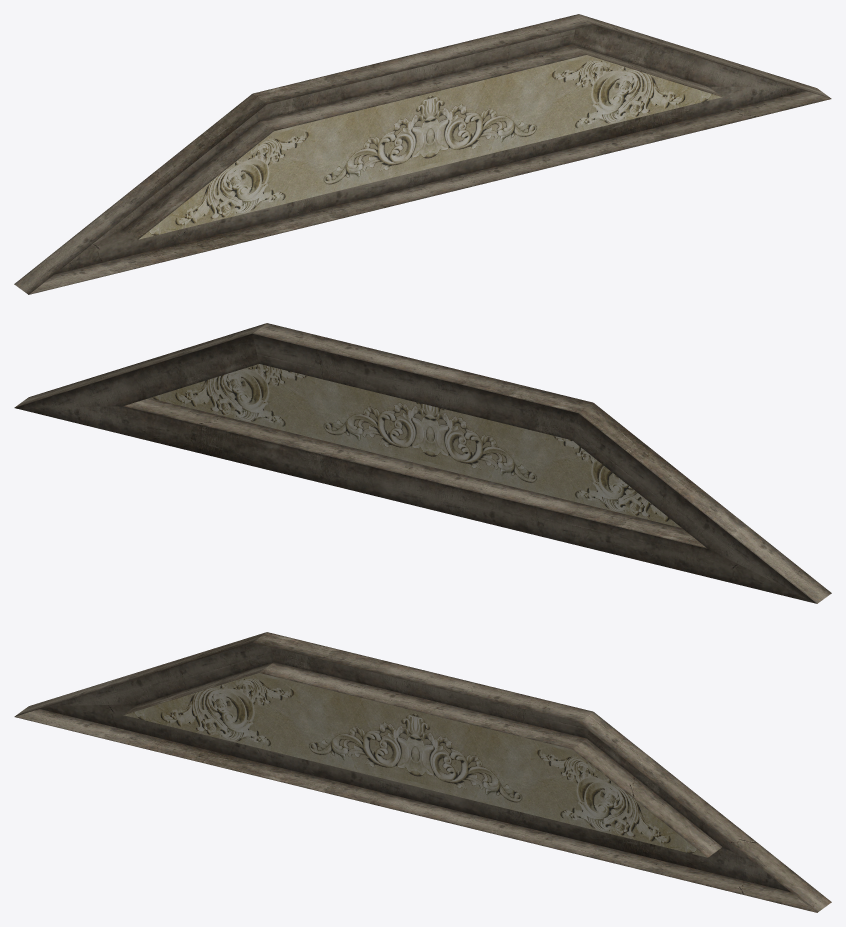
The model's file is OrnamentalWall.DAE.
3 views of the same model, one above another, from view 1: azimuth 30°, elevation 25°; view 2: azimuth 150°, elevation 25°; view 3: azimuth 330°, elevation 25° (orthographic).
Parts seen in each view (by area): view 1: Object019, Plane001; view 2: Object019, Plane001; view 3: Object019, Plane001.
Boxes of the visible parts, bbox=[...] form: Object019: bbox=[14, 14, 831, 294]; Plane001: bbox=[138, 55, 722, 239]; Object019: bbox=[14, 323, 831, 603]; Plane001: bbox=[149, 364, 681, 527]; Object019: bbox=[14, 632, 831, 912]; Plane001: bbox=[123, 673, 707, 857].
Bounding box in the file's own units: 10.03 × 1.58 × 0.318.
